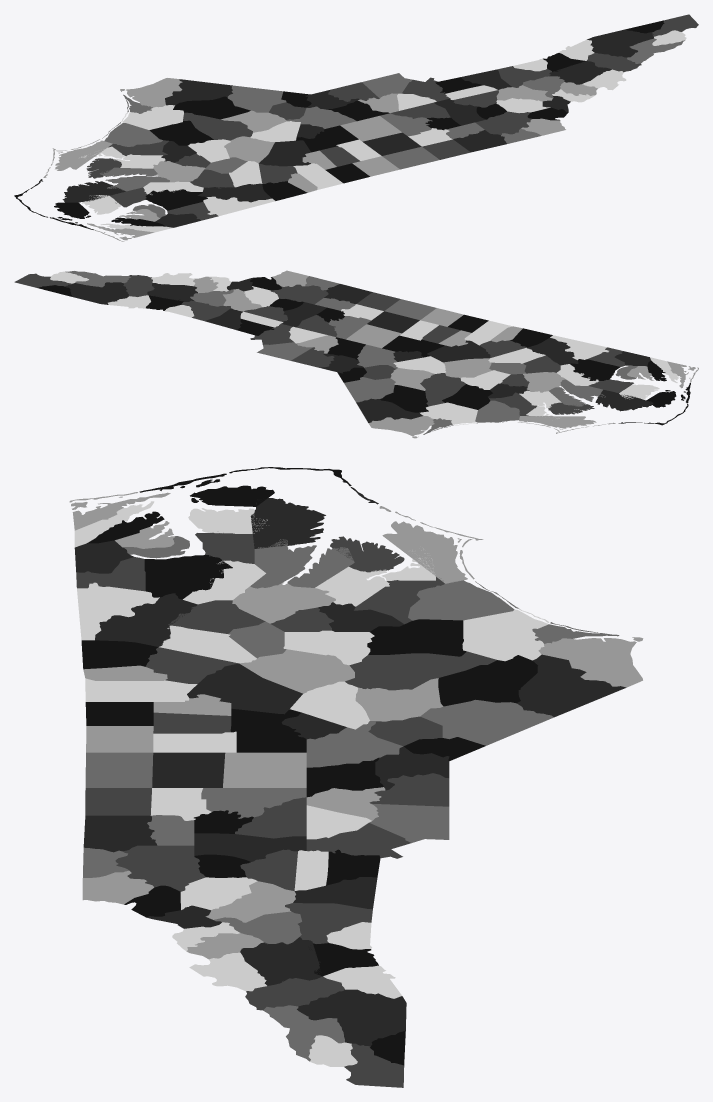
Rendered from North_Carolina_Counties_2D.fbx.
3 views of the same model, one above another, from view 1: azimuth 30°, elevation 25°; view 2: azimuth 150°, elevation 25°; view 3: azimuth 270°, elevation 25° (orthographic). The views are drawn at different scales.
Parts seen in each view (by area): view 1: NC_Sampson_County_2D, NC_Columbus_County_2D, NC_Robeson_County_2D, NC_Bladen_County_2D, NC_Pender_County_2D, NC_Brunswick_County_2D, NC_Wake_County_2D, NC_Beaufort_County_2D, NC_Johnston_County_2D, NC_Duplin_County_2D, NC_Randolph_County_2D, NC_Onslow_County_2D (+71 smaller); view 2: NC_Columbus_County_2D, NC_Robeson_County_2D, NC_Sampson_County_2D, NC_Pender_County_2D, NC_Bladen_County_2D, NC_Brunswick_County_2D, NC_Wake_County_2D, NC_Beaufort_County_2D, NC_Johnston_County_2D, NC_Carteret_County_2D, NC_Duplin_County_2D, NC_Onslow_County_2D (+73 smaller); view 3: NC_Sampson_County_2D, NC_Robeson_County_2D, NC_Columbus_County_2D, NC_Bladen_County_2D, NC_Pender_County_2D, NC_Brunswick_County_2D, NC_Wake_County_2D, NC_Beaufort_County_2D, NC_Johnston_County_2D, NC_Duplin_County_2D, NC_Randolph_County_2D, NC_Onslow_County_2D (+83 smaller).
Boxes of the visible parts, box(x1,y1,x2,y2) form: NC_Sampson_County_2D: box(183, 112, 252, 140); NC_Columbus_County_2D: box(165, 79, 232, 105); NC_Robeson_County_2D: box(227, 85, 286, 112); NC_Bladen_County_2D: box(173, 96, 250, 119); NC_Pender_County_2D: box(121, 105, 183, 129); NC_Brunswick_County_2D: box(120, 78, 182, 107); NC_Wake_County_2D: box(259, 140, 311, 166); NC_Beaufort_County_2D: box(100, 167, 169, 191); NC_Johnston_County_2D: box(224, 136, 274, 162); NC_Duplin_County_2D: box(149, 120, 213, 145); NC_Randolph_County_2D: box(340, 116, 402, 141); NC_Onslow_County_2D: box(102, 122, 162, 146); NC_Columbus_County_2D: box(356, 398, 423, 422); NC_Robeson_County_2D: box(344, 377, 395, 402); NC_Sampson_County_2D: box(420, 373, 465, 406); NC_Pender_County_2D: box(420, 402, 477, 425); NC_Bladen_County_2D: box(380, 385, 428, 412); NC_Brunswick_County_2D: box(368, 416, 434, 438); NC_Wake_County_2D: box(427, 340, 490, 362); NC_Beaufort_County_2D: box(549, 379, 605, 406); NC_Johnston_County_2D: box(443, 358, 491, 377); NC_Carteret_County_2D: box(518, 416, 615, 433); NC_Duplin_County_2D: box(442, 384, 492, 409); NC_Onslow_County_2D: box(475, 400, 519, 423); NC_Sampson_County_2D: box(345, 651, 496, 690); NC_Robeson_County_2D: box(420, 699, 553, 745); NC_Columbus_County_2D: box(517, 654, 626, 717); NC_Bladen_County_2D: box(438, 655, 537, 706); NC_Pender_County_2D: box(462, 608, 548, 661); NC_Brunswick_County_2D: box(538, 637, 643, 687); NC_Wake_County_2D: box(187, 663, 302, 714); NC_Beaufort_County_2D: box(250, 539, 354, 588); NC_Johnston_County_2D: box(239, 649, 354, 693); NC_Duplin_County_2D: box(367, 619, 466, 656); NC_Randolph_County_2D: box(223, 752, 306, 787); NC_Onslow_County_2D: box(408, 580, 518, 620).
Bounding box in the file's own units: 875 × 0 × 342.
